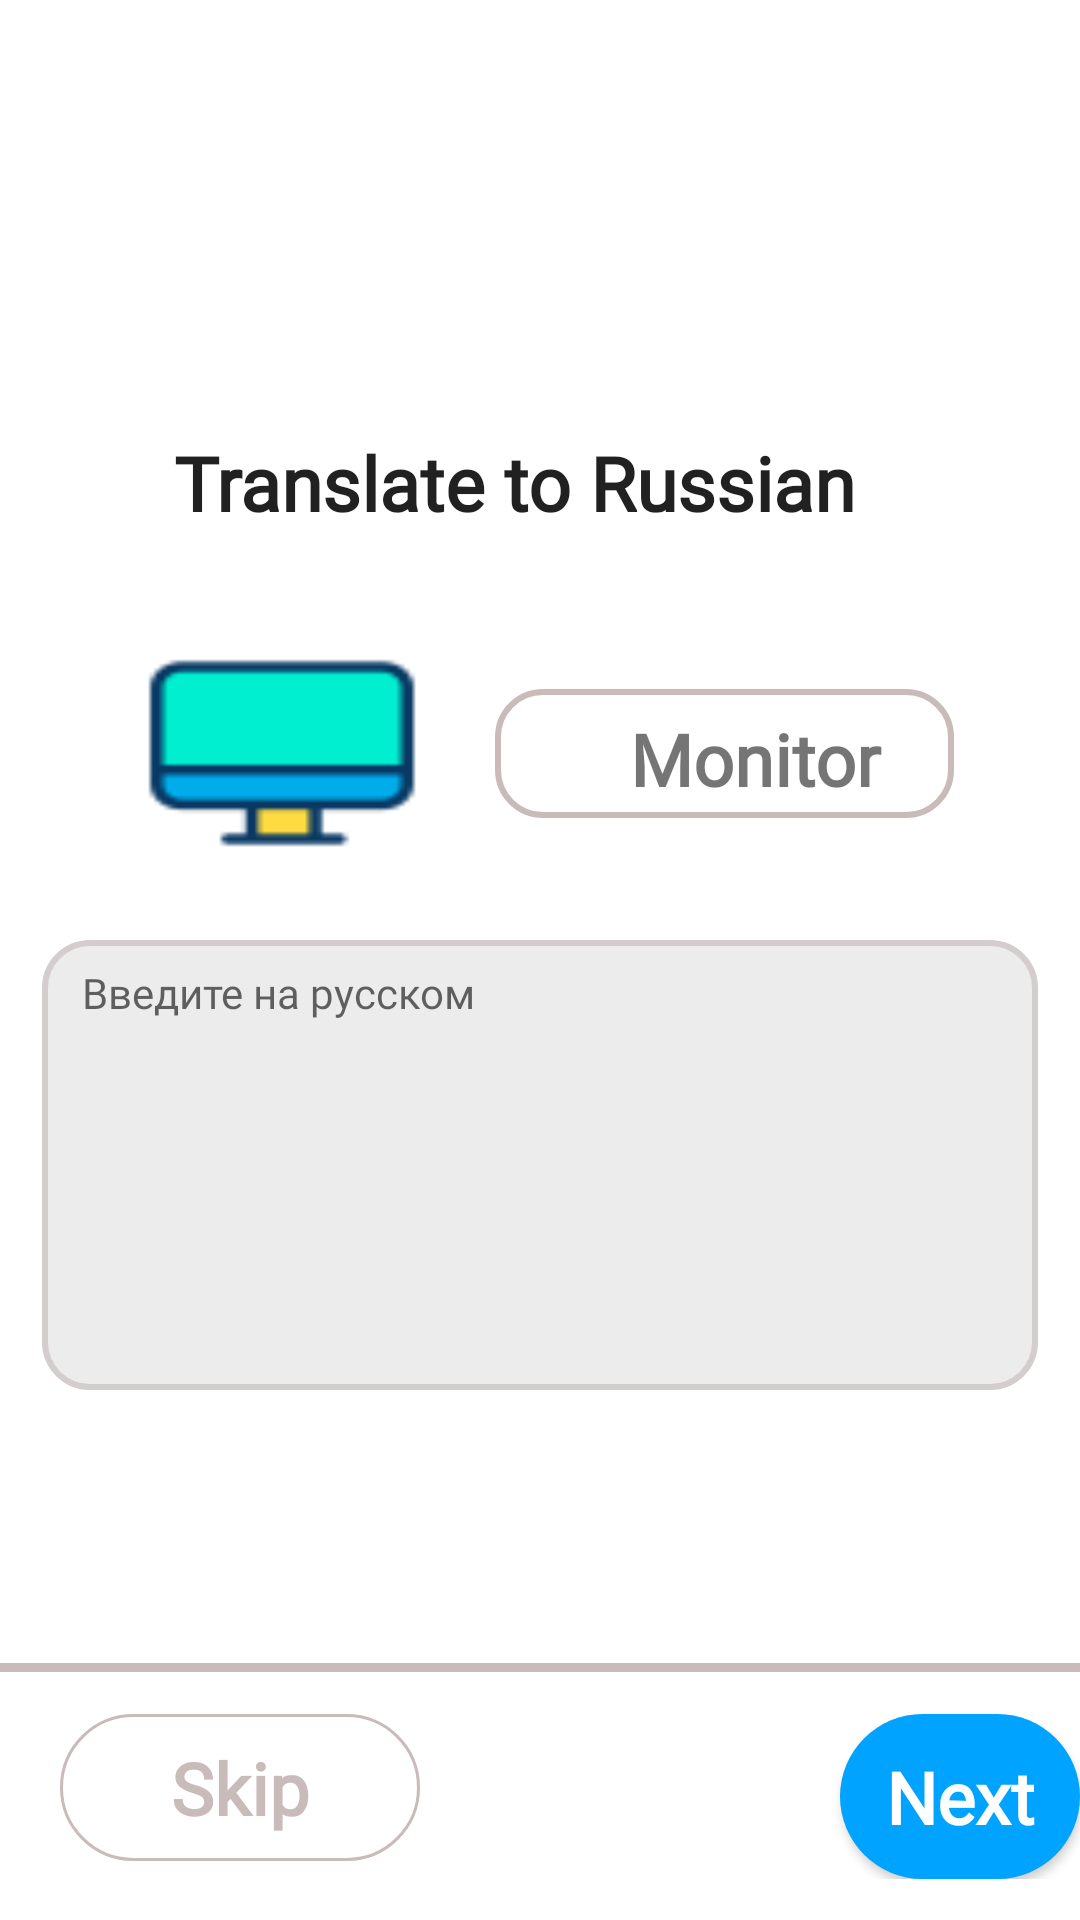

Named icons in this screenshot (1080×1920) and their centers, point (x, y):
monitor: point (282, 753)
